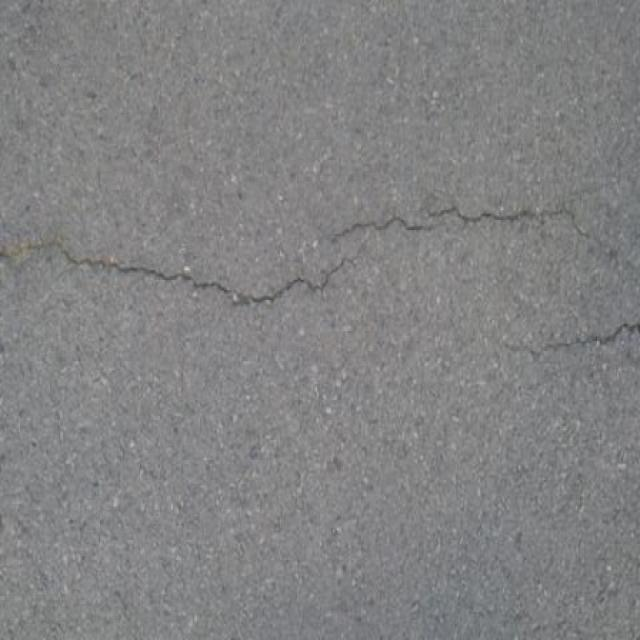Alligator Crack: (4, 202, 627, 309), (504, 318, 640, 365)
